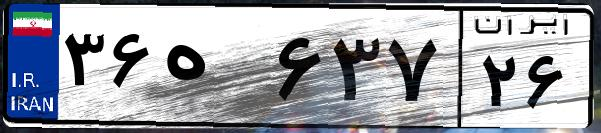2: (475, 38, 525, 113)
3: (330, 28, 385, 110), (57, 26, 110, 100)
6: (270, 28, 330, 110), (525, 38, 570, 115), (110, 28, 158, 98)
7: (385, 28, 445, 110)
ه: (158, 20, 270, 120)
